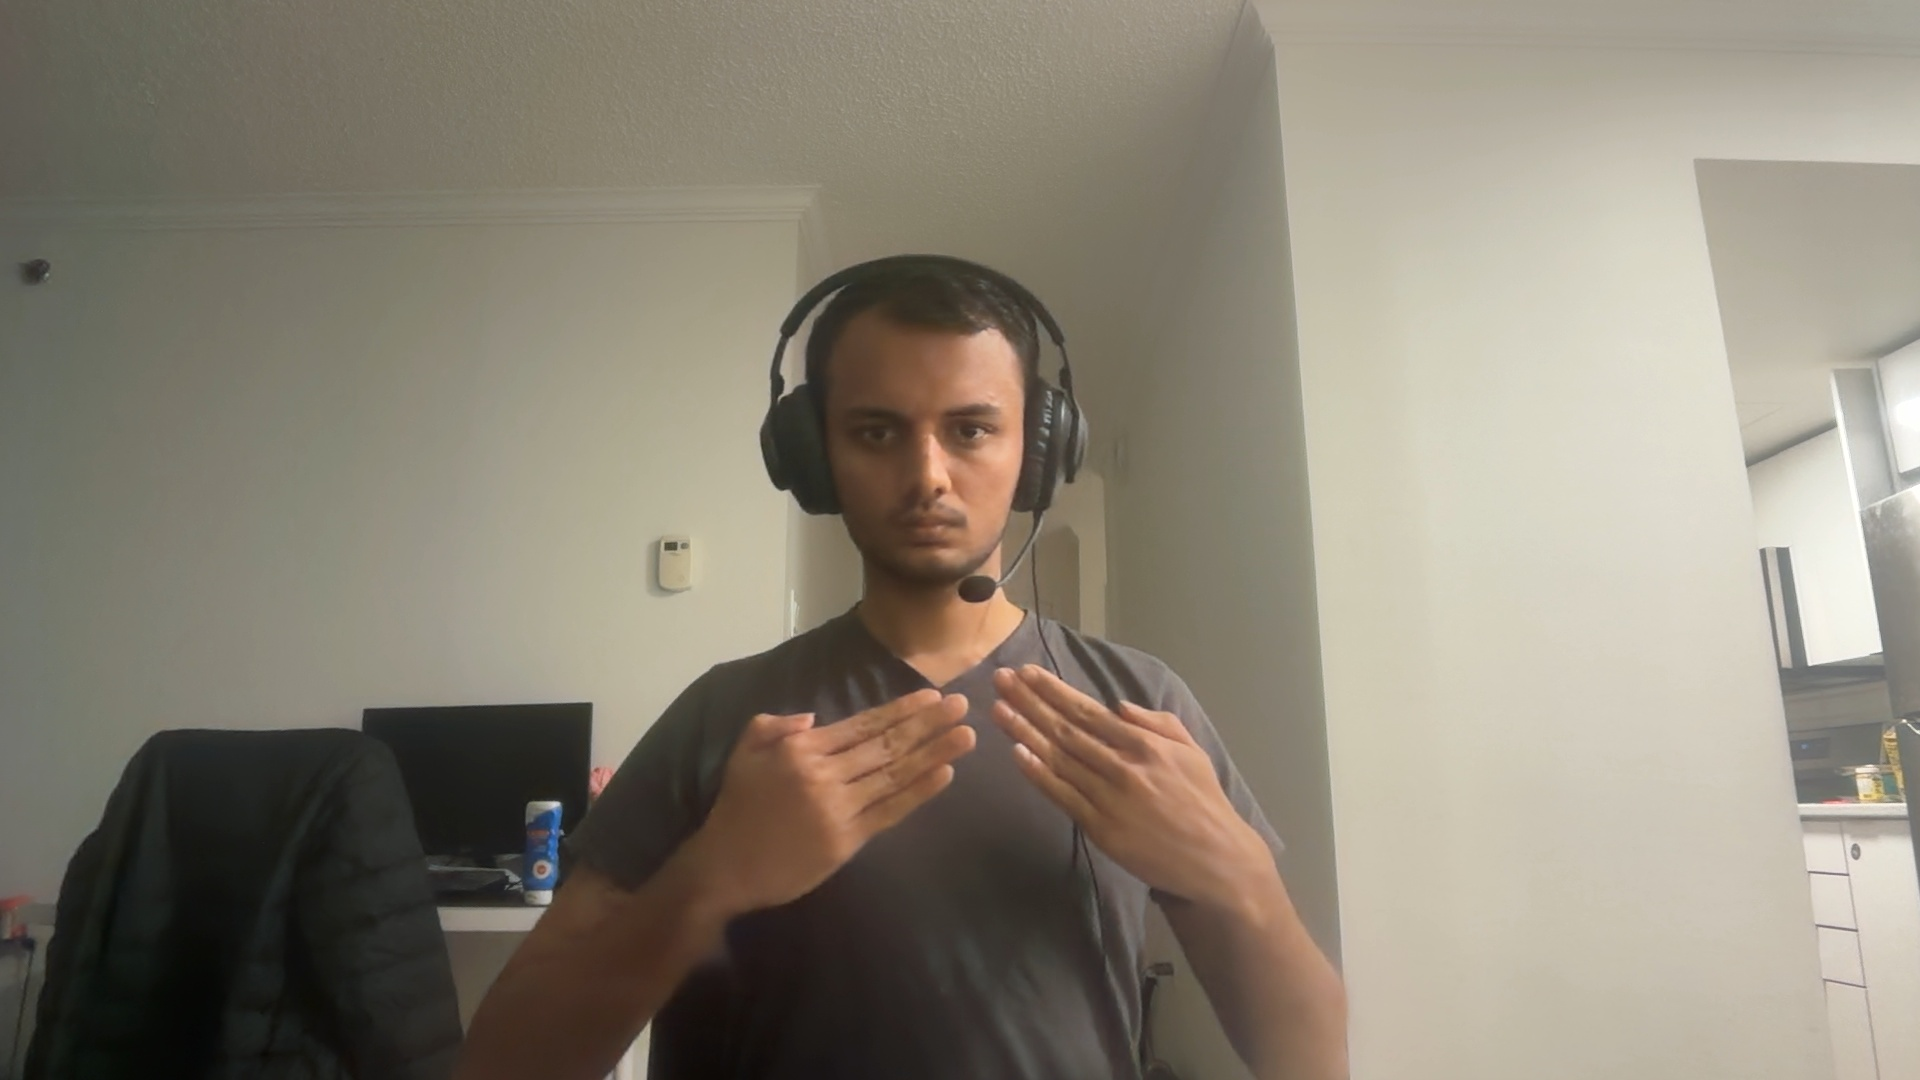thankyou: (705, 661, 1262, 916)
